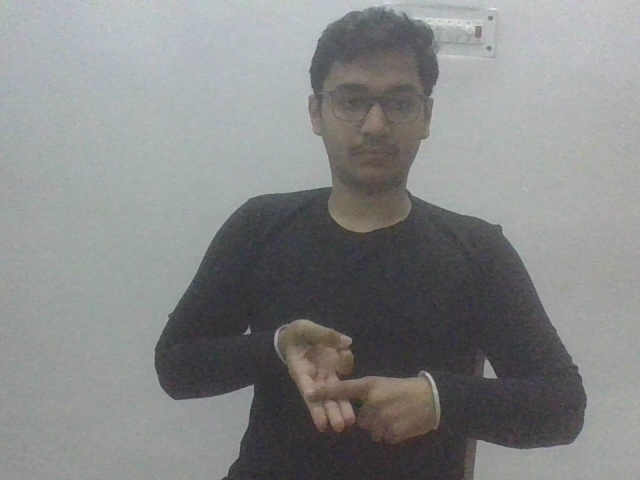E: (271, 318, 443, 446)
